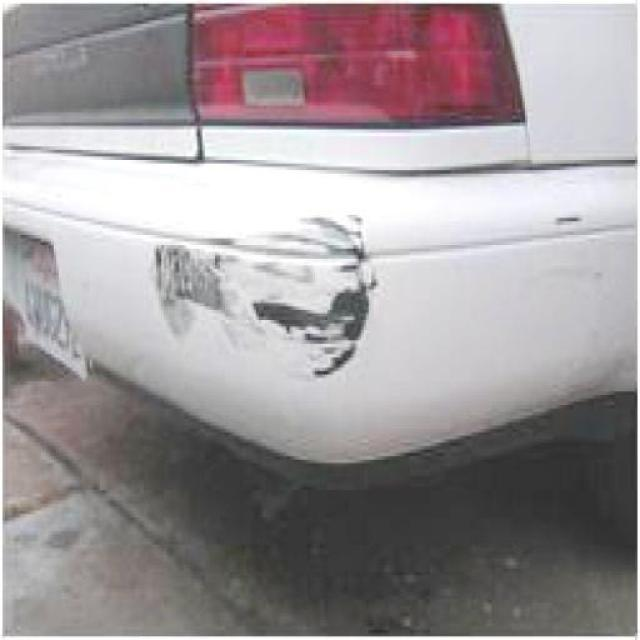Car-Damage: (146, 208, 381, 381)
